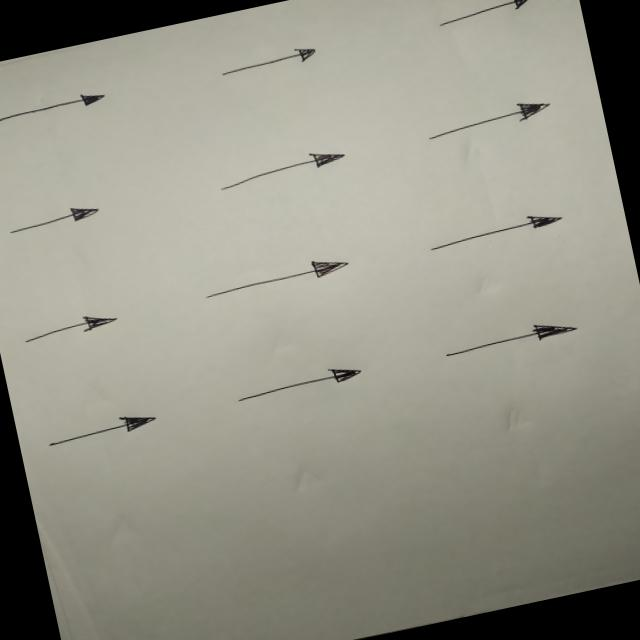arrow_line_up: (50, 85, 114, 210), (119, 401, 177, 512), (228, 54, 282, 168), (426, 20, 481, 120), (266, 207, 317, 311), (464, 157, 514, 260), (311, 358, 359, 461), (95, 253, 142, 354), (494, 299, 540, 391), (526, 434, 570, 521), (344, 488, 386, 579), (142, 538, 185, 624)
